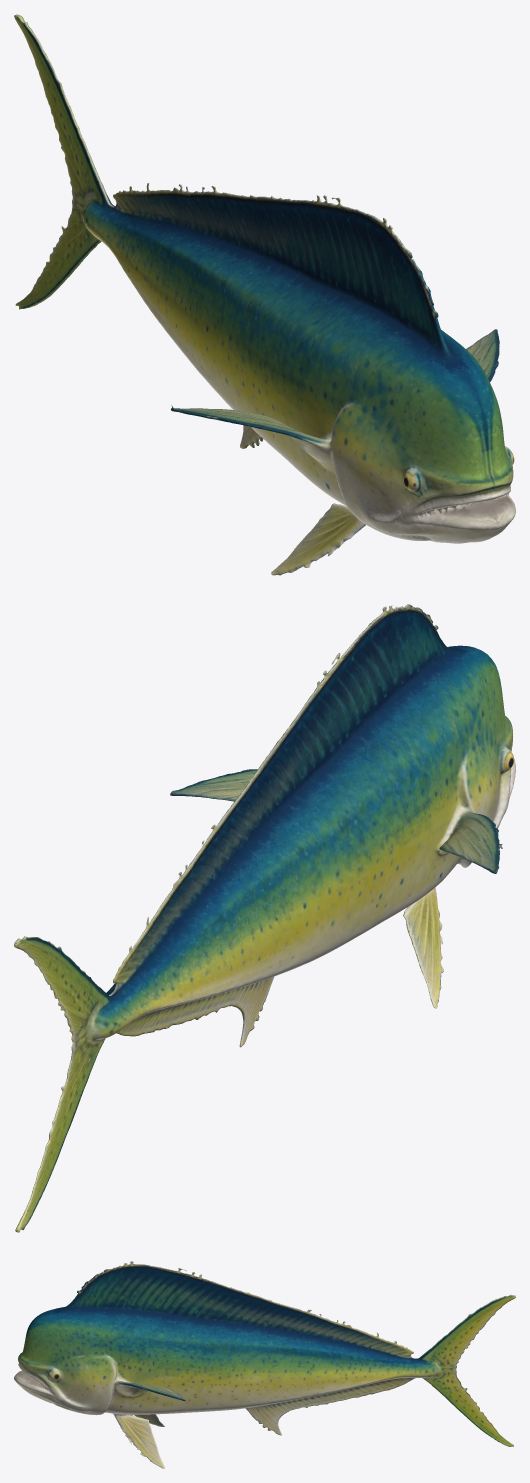
The model's file is shiira-7f4232d75428.glb.
3 views of the same model, one above another, from view 1: azimuth 30°, elevation 25°; view 2: azimuth 150°, elevation 25°; view 3: azimuth 270°, elevation 25° (orthographic). The views are drawn at different scales.
Bounding box in the file's own units: 0.741 × 0.7786 × 1.9.
1 material, 1 textured.
